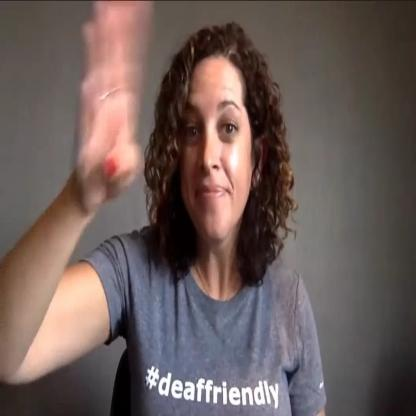Hello: (49, 0, 300, 305)
